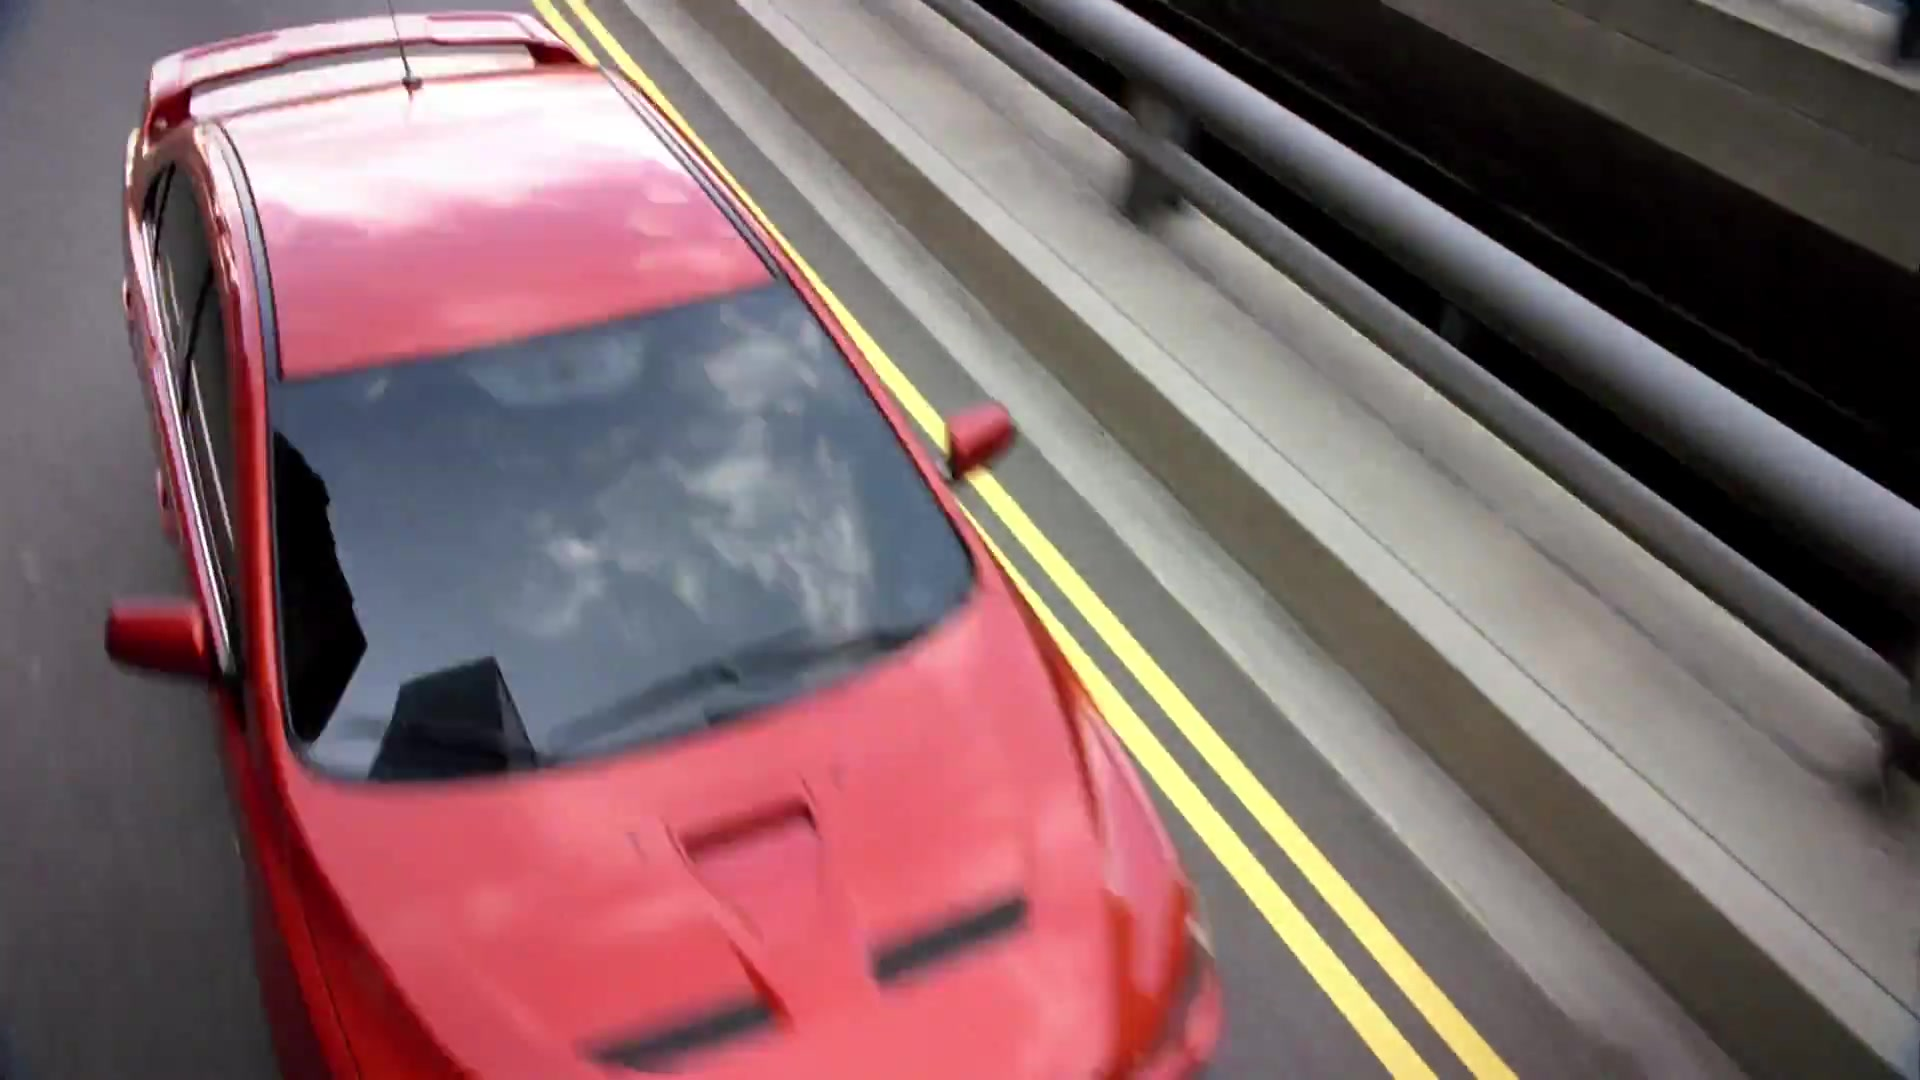car: (98, 8, 1233, 1080)
